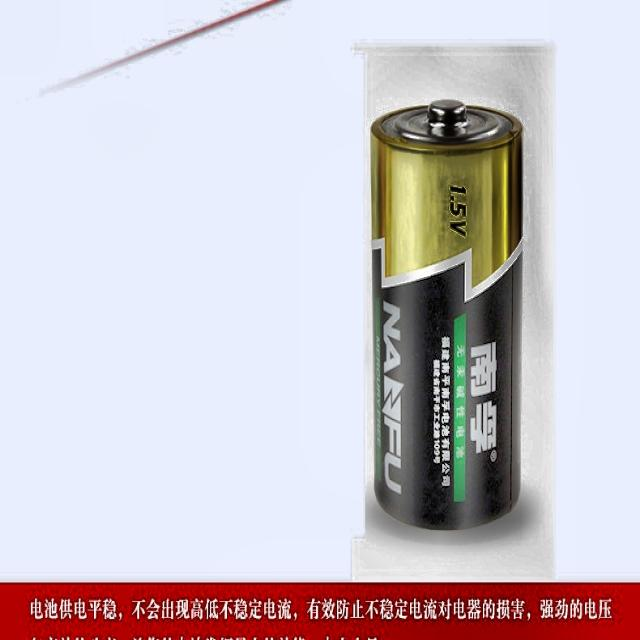Non-Valuable Waste - Batteries: (371, 100, 522, 530)
